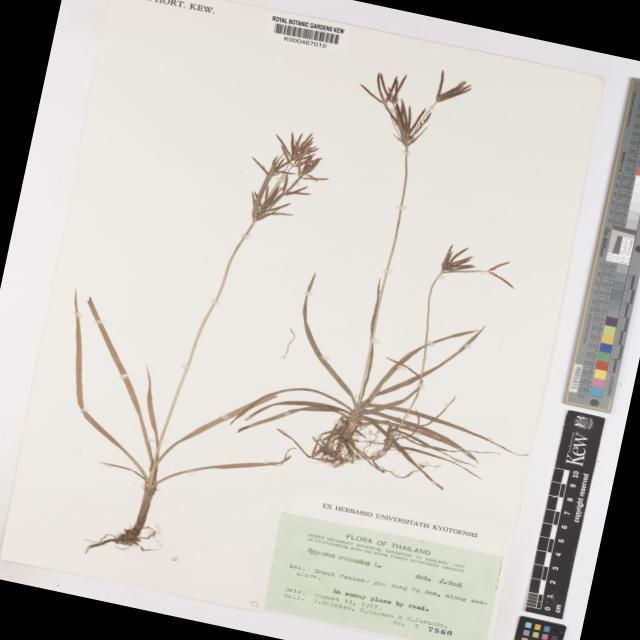cyperus: (334, 48, 477, 156), (220, 112, 332, 234), (426, 235, 521, 298)
